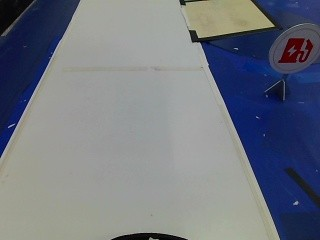battery: (269, 22, 317, 73)
